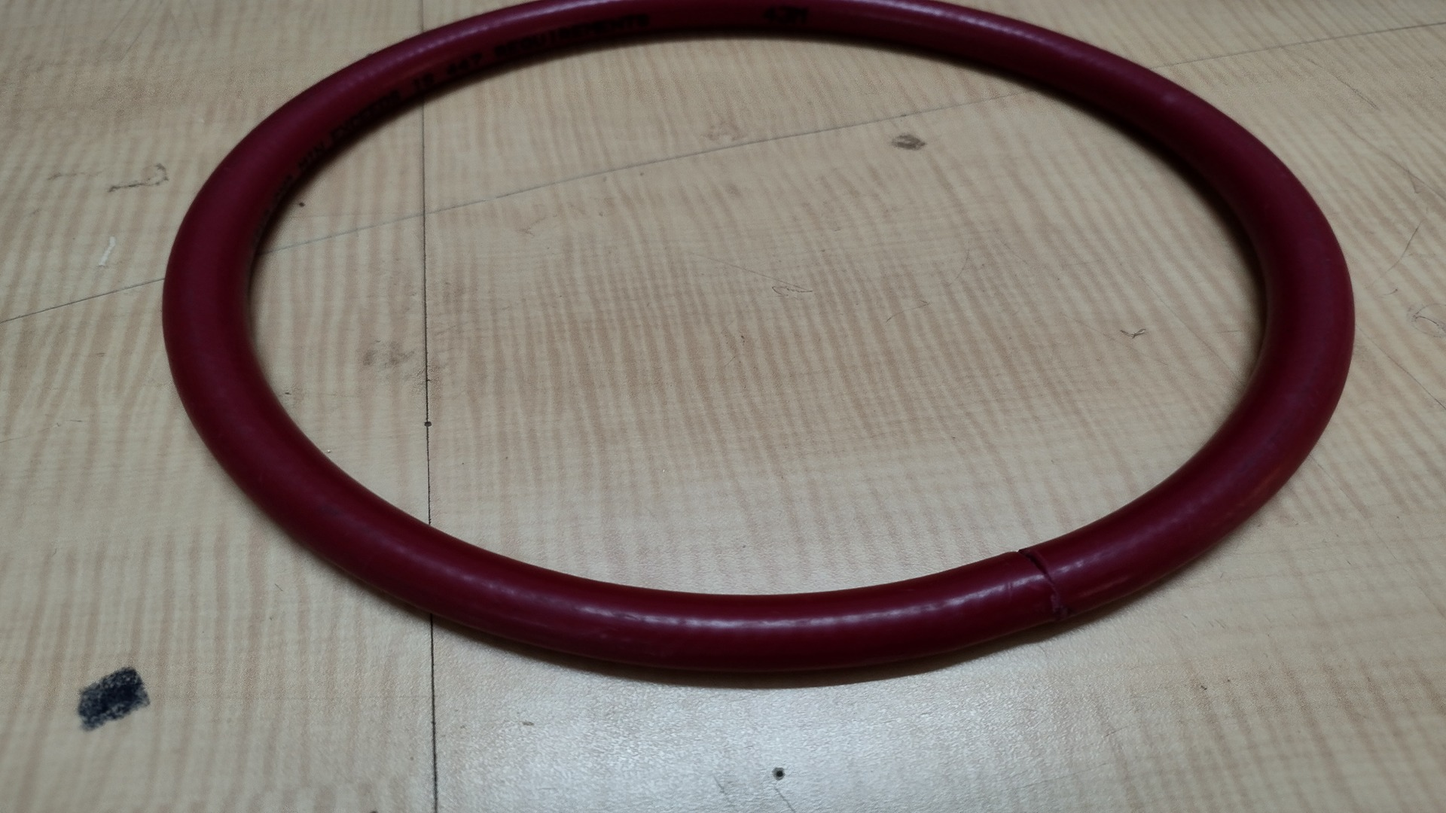Red ring: (166, 6, 1354, 670)
